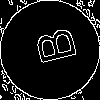B: (25, 25, 78, 69)
